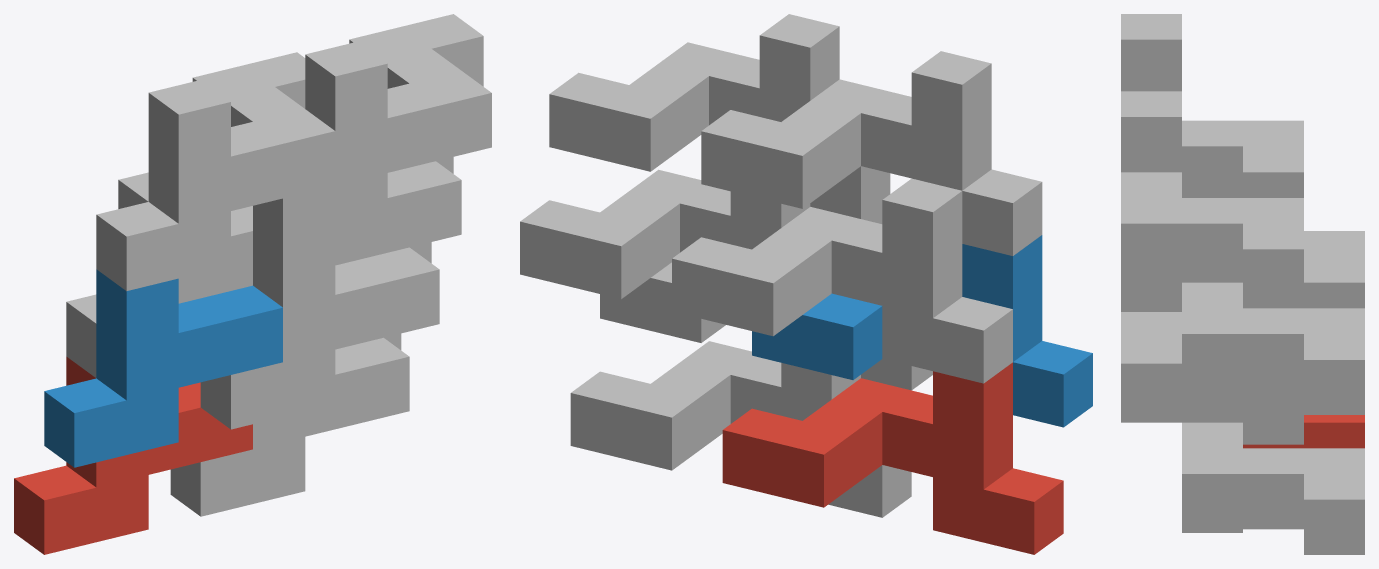
The model's file is tiling.obj.
The picture shows the model from 3 angles, left to right: view 1: azimuth 30°, elevation 25°; view 2: azimuth 150°, elevation 25°; view 3: azimuth 270°, elevation 25°; orthographic projection. The views are drawn at different scales.
Parts seen in each view (by area): view 1: copy_1_domain_4, copy_1_domain_8, copy_1_domain_2, copy_1_domain_6, copy_1_domain_1, copy_1_domain_5, copy_1_domain_7, copy_1_domain_3; view 2: copy_1_domain_3, copy_1_domain_1, copy_1_domain_4, copy_1_domain_8, copy_1_domain_5, copy_1_domain_7, copy_1_domain_2, copy_1_domain_6; view 3: copy_1_domain_8, copy_1_domain_5, copy_1_domain_7, copy_1_domain_4, copy_1_domain_6, copy_1_domain_3, copy_1_domain_1.
Boxes of the visible parts, <box> form: copy_1_domain_4: <box>96,52,335,291</box>; copy_1_domain_8: <box>253,14,491,252</box>; copy_1_domain_2: <box>44,269,282,467</box>; copy_1_domain_6: <box>200,231,439,429</box>; copy_1_domain_1: <box>14,356,252,554</box>; copy_1_domain_5: <box>170,333,409,516</box>; copy_1_domain_7: <box>335,157,461,265</box>; copy_1_domain_3: <box>66,172,252,377</box>; copy_1_domain_3: <box>672,178,1012,383</box>; copy_1_domain_1: <box>722,362,1063,554</box>; copy_1_domain_4: <box>701,51,1042,255</box>; copy_1_domain_8: <box>549,14,890,218</box>; copy_1_domain_5: <box>570,341,911,517</box>; copy_1_domain_7: <box>520,169,810,299</box>; copy_1_domain_2: <box>752,235,1092,427</box>; copy_1_domain_6: <box>600,204,932,390</box>; copy_1_domain_8: <box>1121,91,1303,304</box>; copy_1_domain_5: <box>1182,418,1364,554</box>; copy_1_domain_7: <box>1182,279,1364,414</box>; copy_1_domain_4: <box>1121,14,1303,197</box>; copy_1_domain_6: <box>1121,282,1303,444</box>; copy_1_domain_3: <box>1243,231,1364,308</box>; copy_1_domain_1: <box>1243,415,1364,448</box>.
Bounding box in the file's own units: 9 × 8 × 4.
